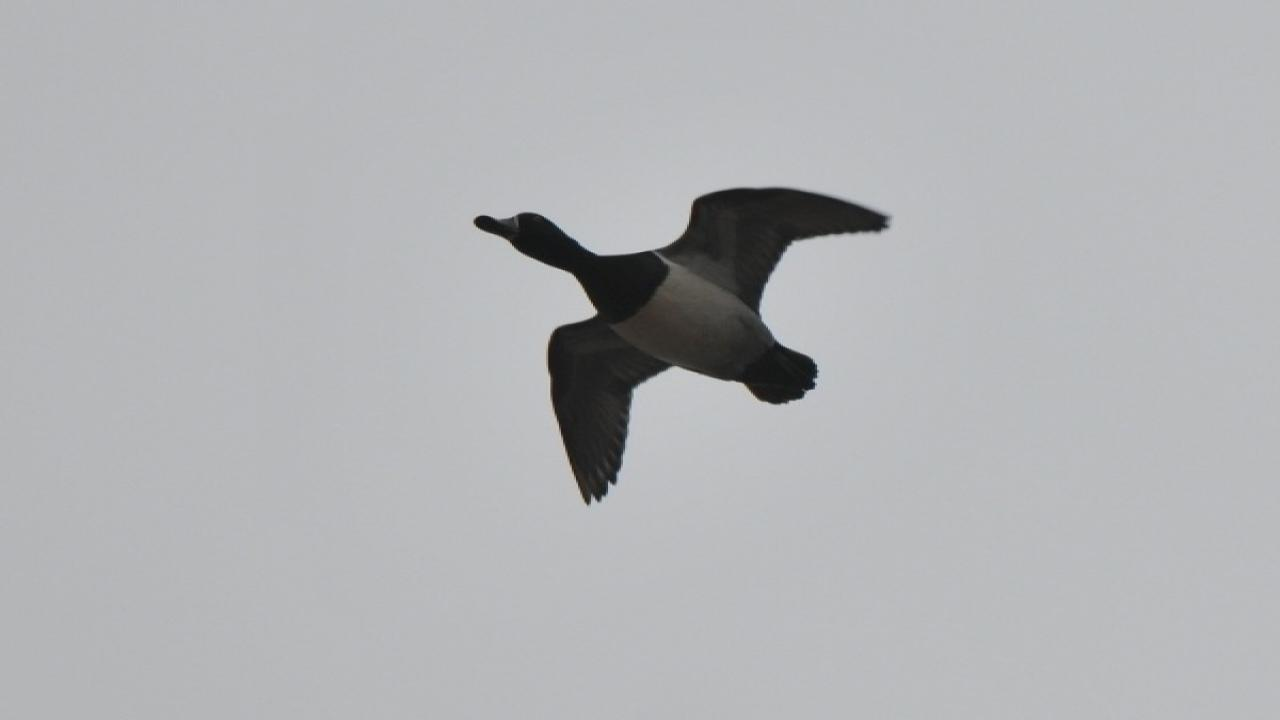Bird: (461, 176, 901, 515)
